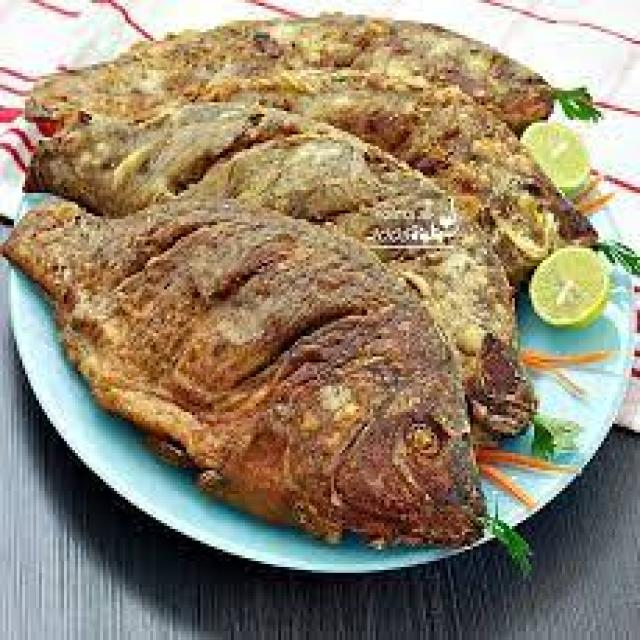Peixe: (0, 190, 490, 549)
